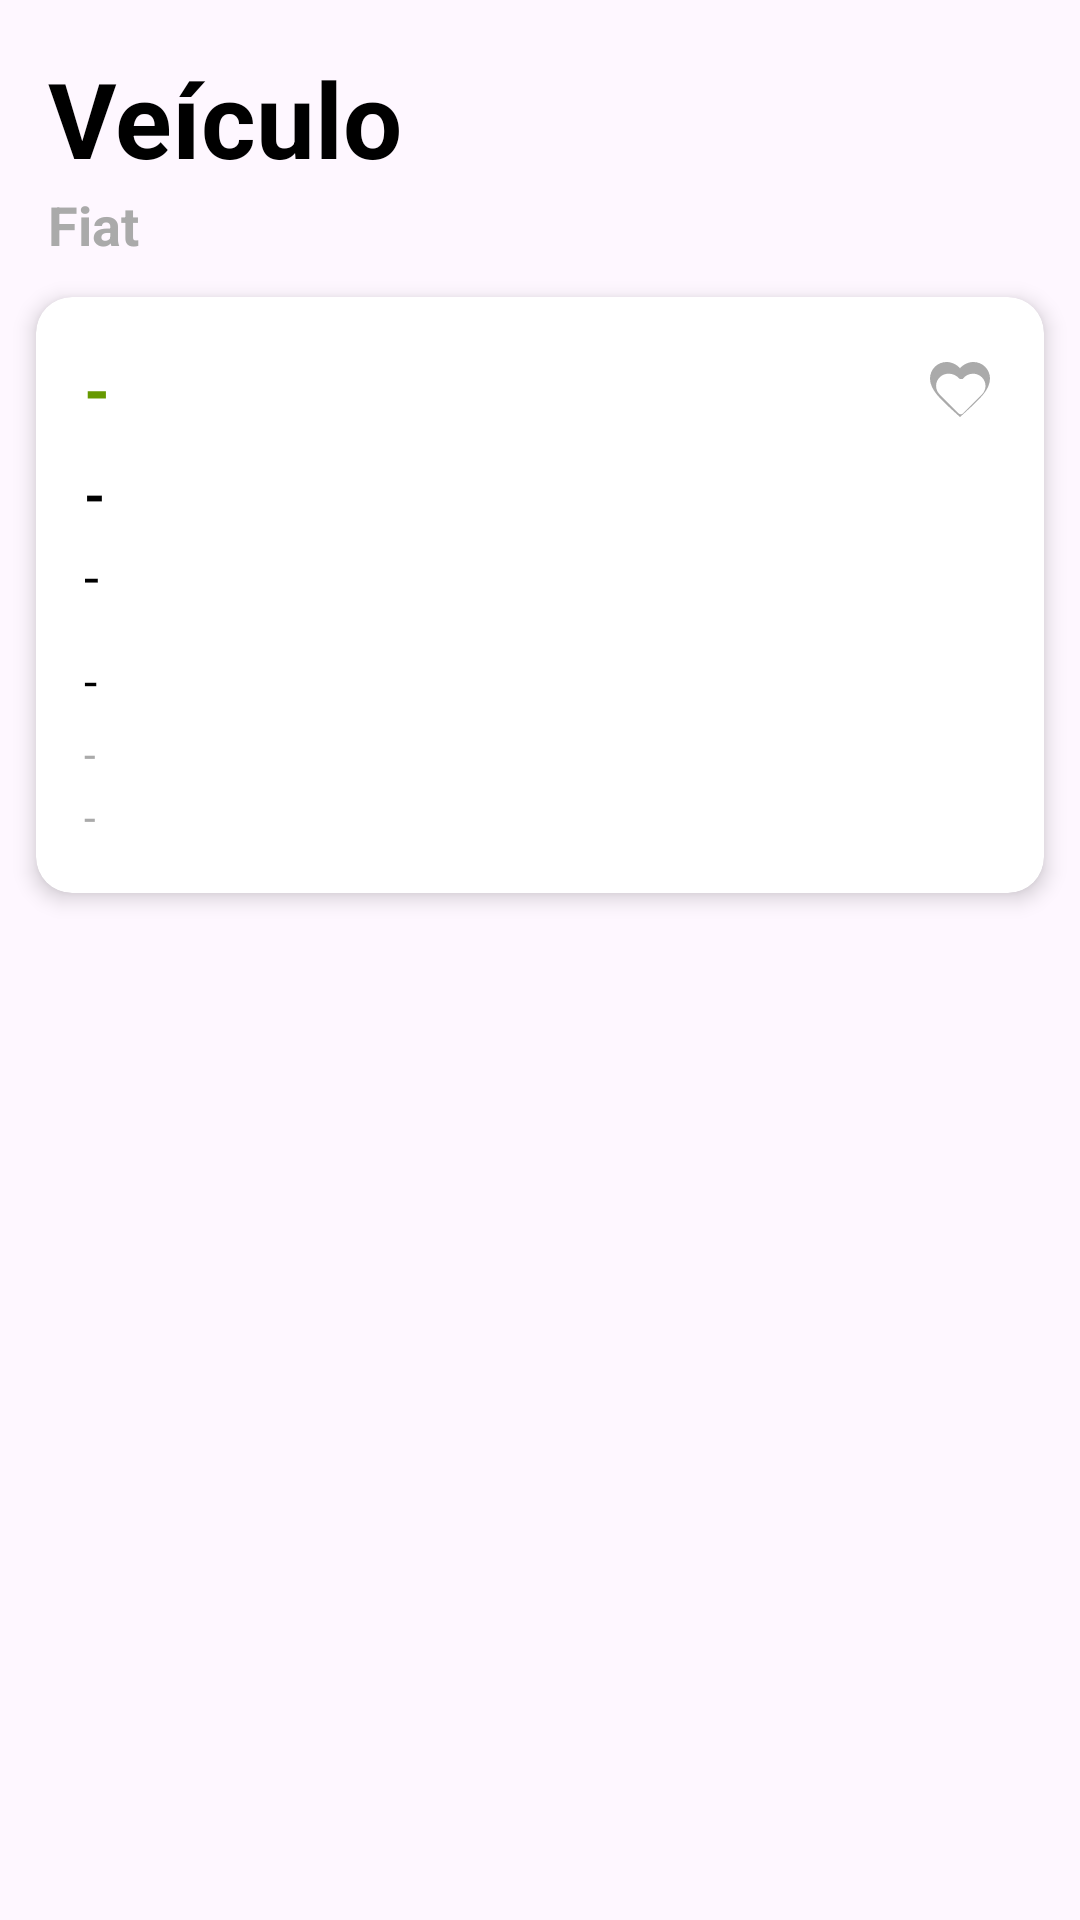

Screen size 1080×1920. Icon name, then its box in pixels as Rect(x1, y1, x2, y2):
Favoritar: Rect(930, 362, 990, 417)
